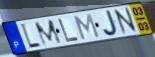J: (102, 9, 120, 38)
L: (19, 23, 43, 51), (57, 18, 81, 44)
M: (33, 19, 64, 48), (73, 13, 101, 41)
N: (112, 6, 140, 37)
